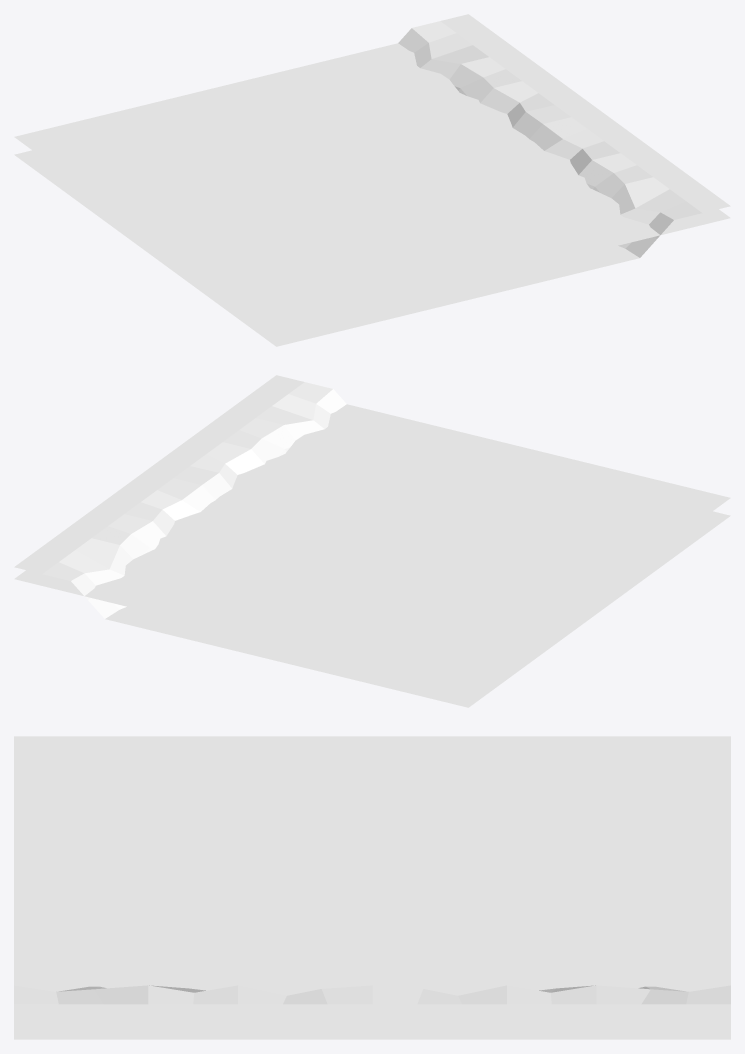
Rendered from ground.lake.shore.straight.glb.
3 views of the same model, one above another, from view 1: azimuth 30°, elevation 25°; view 2: azimuth 150°, elevation 25°; view 3: azimuth 270°, elevation 25° (orthographic). The views are drawn at different scales.
Parts seen in each view (by area): view 1: ground.lake.water.shore.straight, ground.lake.shore.straight; view 2: ground.lake.water.shore.straight, ground.lake.shore.straight; view 3: ground.lake.water.shore.straight, ground.lake.shore.straight.
Part boxes in pixels (left/top/right/bottom): ground.lake.water.shore.straight: left=14, top=43, right=730, bottom=328; ground.lake.shore.straight: left=14, top=14, right=730, bottom=346; ground.lake.water.shore.straight: left=14, top=404, right=730, bottom=689; ground.lake.shore.straight: left=14, top=375, right=730, bottom=707; ground.lake.water.shore.straight: left=14, top=736, right=730, bottom=1039; ground.lake.shore.straight: left=14, top=985, right=730, bottom=1023.
Size of what is drawn, in the model's own units: 4 by 0.25 by 4.
1 material, 1 textured.
